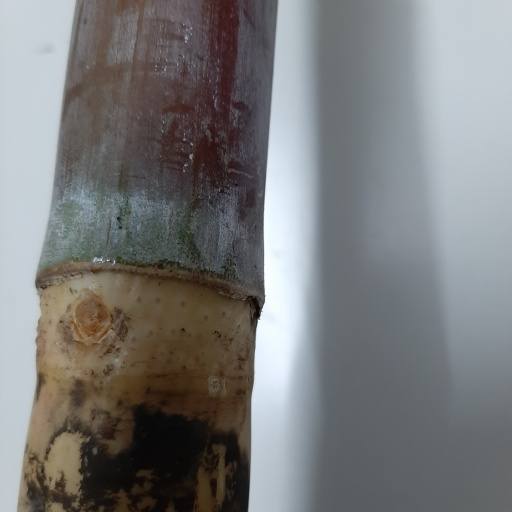Bud: (74, 298, 107, 343)
